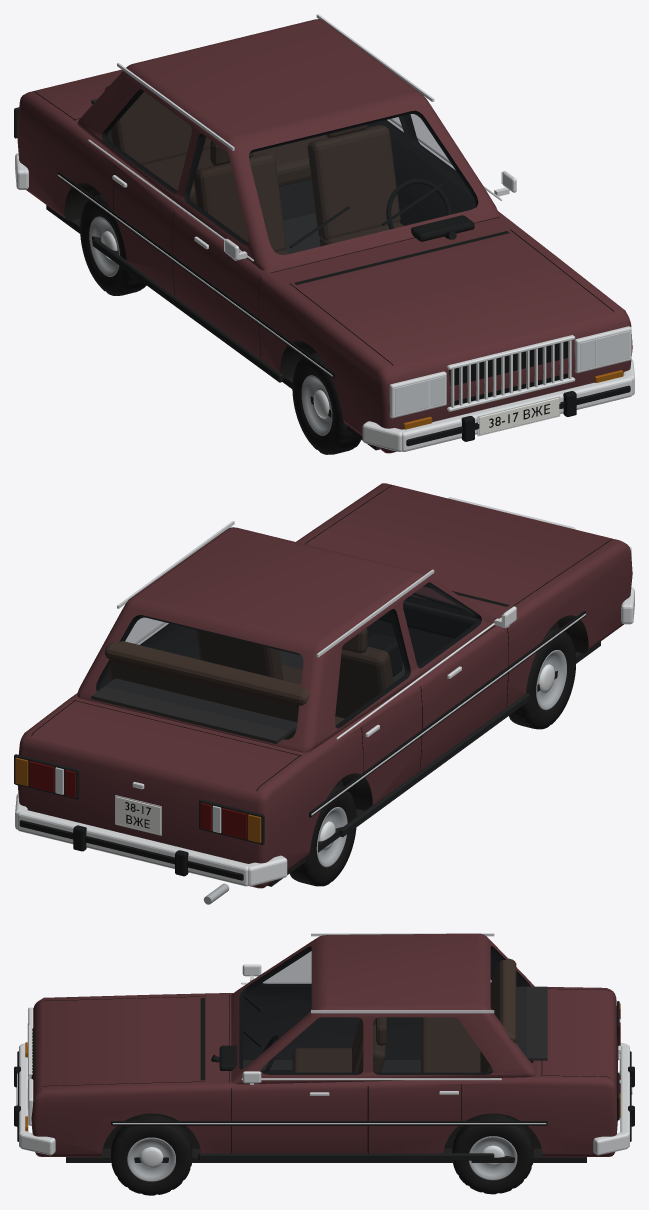
Rendered from sedan.glb.
The picture shows the model from 3 angles, top to bottom: view 1: azimuth 30°, elevation 25°; view 2: azimuth 150°, elevation 25°; view 3: azimuth 270°, elevation 25°; orthographic projection. The views are drawn at different scales.
Visible parts, largest first — view 1: Body, GlassWS, SeatBack1, GlassRR, SeatBack-1, RearBack, GlassFR, BumperF, WheelFrontRTyre, RearBench, WheelRearRTyre, Rocker-1 (+18 smaller); view 2: Body, GlassRW, RearBack, ParcelShelf, GlassRR, BumperR, GlassFR, SeatBack-1, WheelFrontRTyre, SeatBack1, WheelRearRTyre, Rocker-1 (+16 smaller); view 3: Body, GlassRL, GlassWS, GlassFL, WheelFrontLTyre, WheelRearLTyre, RearBench, Rocker1, ParcelShelf, Floor, RearBack, SideStrip1 (+17 smaller).
Part boxes in pixels (x1,y1,x2,y2): Body: (17,19,632,453); GlassWS: (249,112,476,254); SeatBack1: (307,125,400,240); GlassRR: (105,90,191,191); SeatBack-1: (194,153,286,252); RearBack: (104,85,211,165); GlassFR: (187,135,248,243); BumperF: (402,375,632,451); WheelFrontRTyre: (292,352,360,454); RearBench: (143,135,327,204); WheelRearRTyre: (80,194,146,295); Rocker-1: (92,238,282,382); Body: (17,483,632,888); GlassRW: (97,616,302,739); RearBack: (104,641,309,739); ParcelShelf: (91,678,297,744); GlassRR: (335,610,407,726); BumperR: (17,809,248,886); GlassFR: (403,583,478,666); SeatBack-1: (335,646,393,718); WheelFrontRTyre: (509,627,576,729); SeatBack1: (195,629,283,679); WheelRearRTyre: (290,785,356,886); Rocker-1: (339,693,529,837); Body: (31,933,617,1156); GlassRL: (373,1017,492,1073); GlassWS: (241,948,311,1068); GlassFL: (261,1017,362,1073); WheelFrontLTyre: (111,1114,192,1195); WheelRearLTyre: (452,1114,533,1194); RearBench: (421,1017,480,1072); Rocker1: (198,1153,494,1160); ParcelShelf: (515,986,547,1060); Floor: (66,1148,586,1162); RearBack: (480,958,516,1072); SideStrip1: (111,1121,547,1125).
Bounding box in the file's own units: 1.83 × 1.43 × 4.41.
